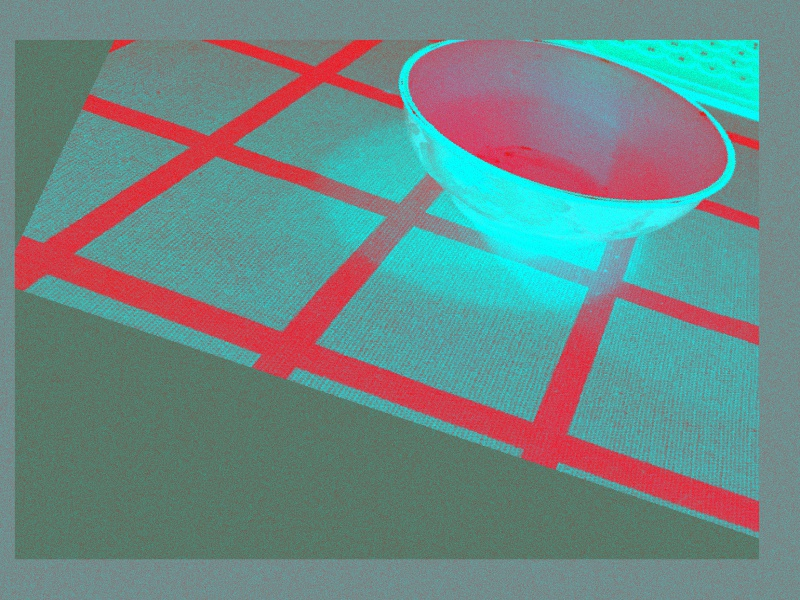bowl_small: (333, 0, 769, 304)
